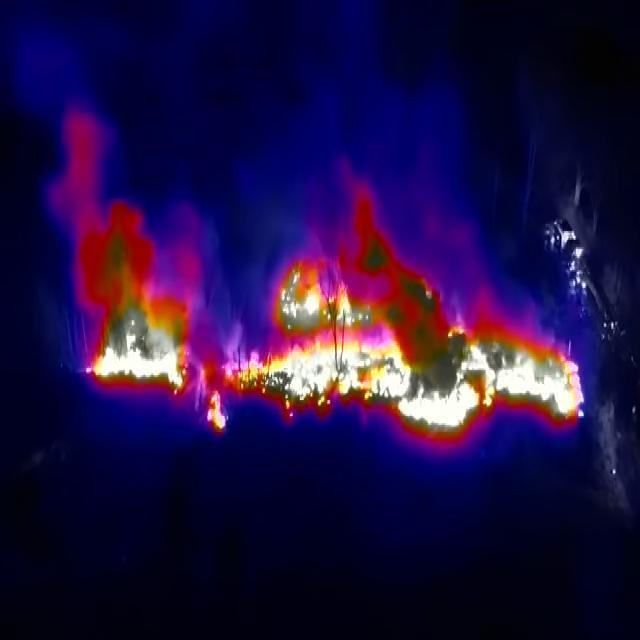fire: (227, 200, 592, 448), (82, 203, 195, 404), (197, 333, 228, 443)
